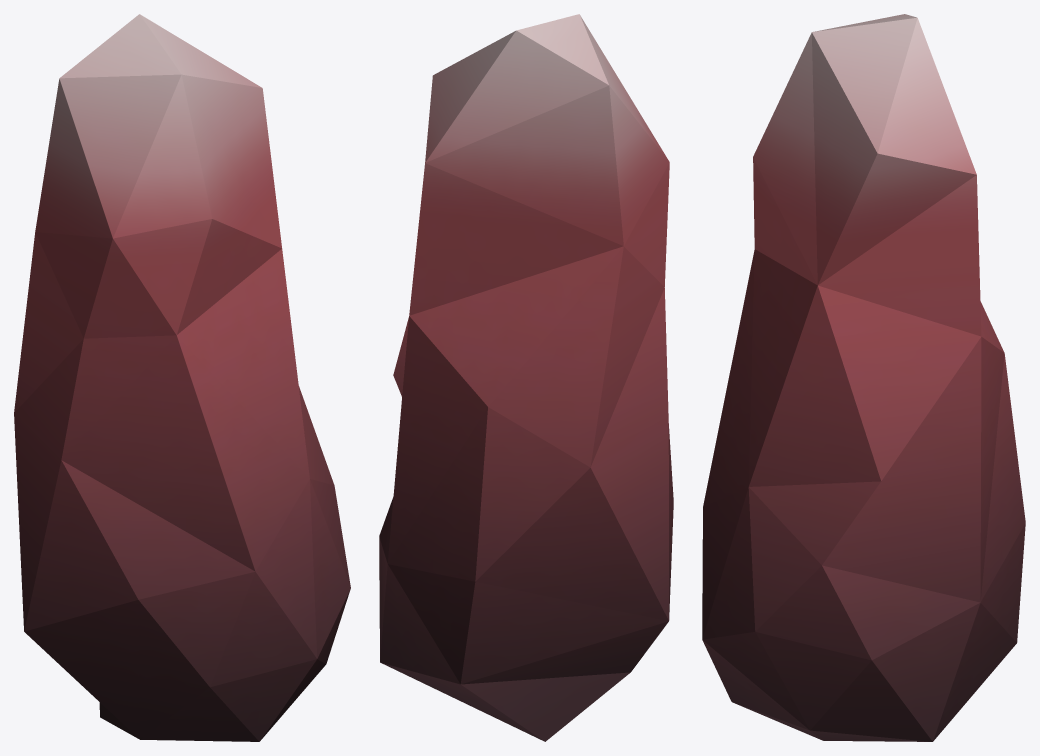
3 views of the same model, side by side, from view 1: azimuth 30°, elevation 25°; view 2: azimuth 150°, elevation 25°; view 3: azimuth 270°, elevation 25° (orthographic).
Parts seen in each view (by area): view 1: Base_02; view 2: Base_02; view 3: Base_02.
Part boxes in pixels (left/top/right/bottom): Base_02: left=14, top=14, right=350, bottom=741; Base_02: left=379, top=14, right=673, bottom=741; Base_02: left=702, top=14, right=1025, bottom=741.
Bounding box in the file's own units: 1.44 × 3.28 × 1.37.
